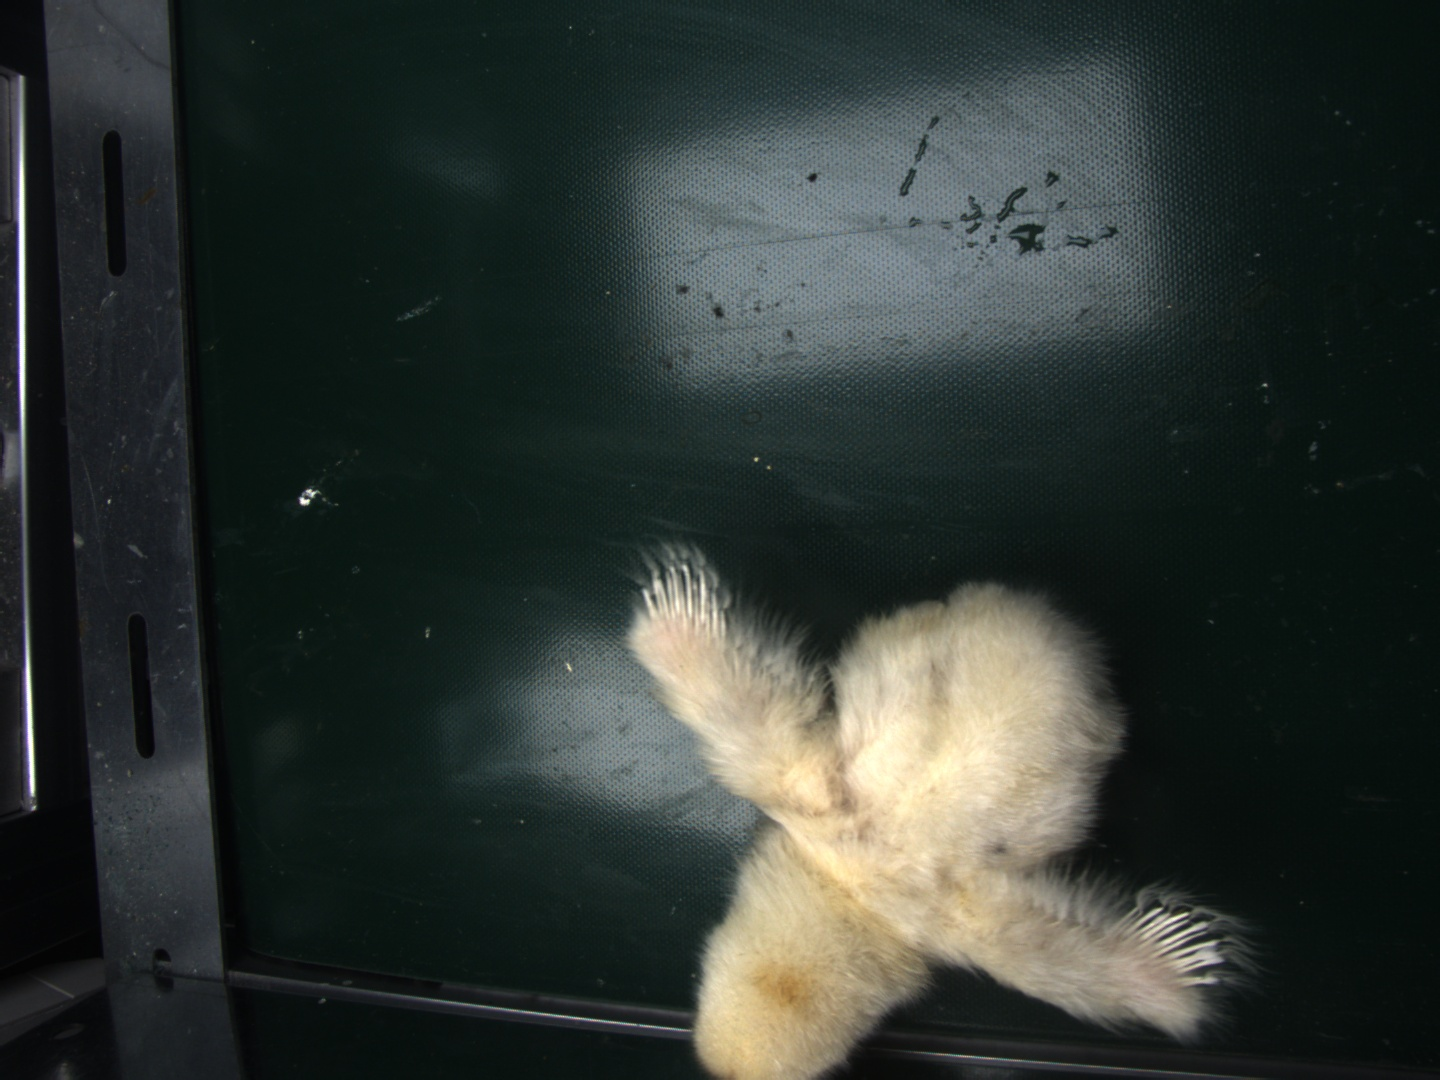male: (1123, 898, 1228, 982), (638, 565, 725, 624)
